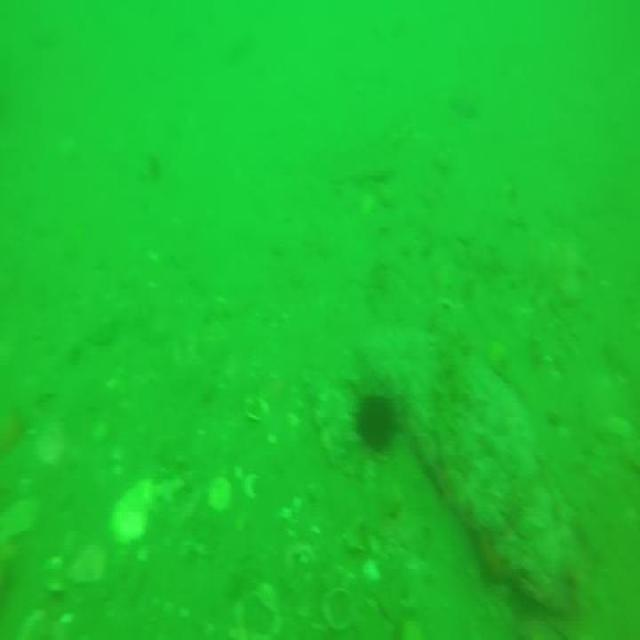echinus: (358, 389, 396, 450)
holothurian: (432, 304, 474, 428)
scallop: (105, 479, 161, 540), (242, 583, 282, 640), (322, 586, 356, 640), (207, 477, 236, 515), (248, 390, 270, 422)
